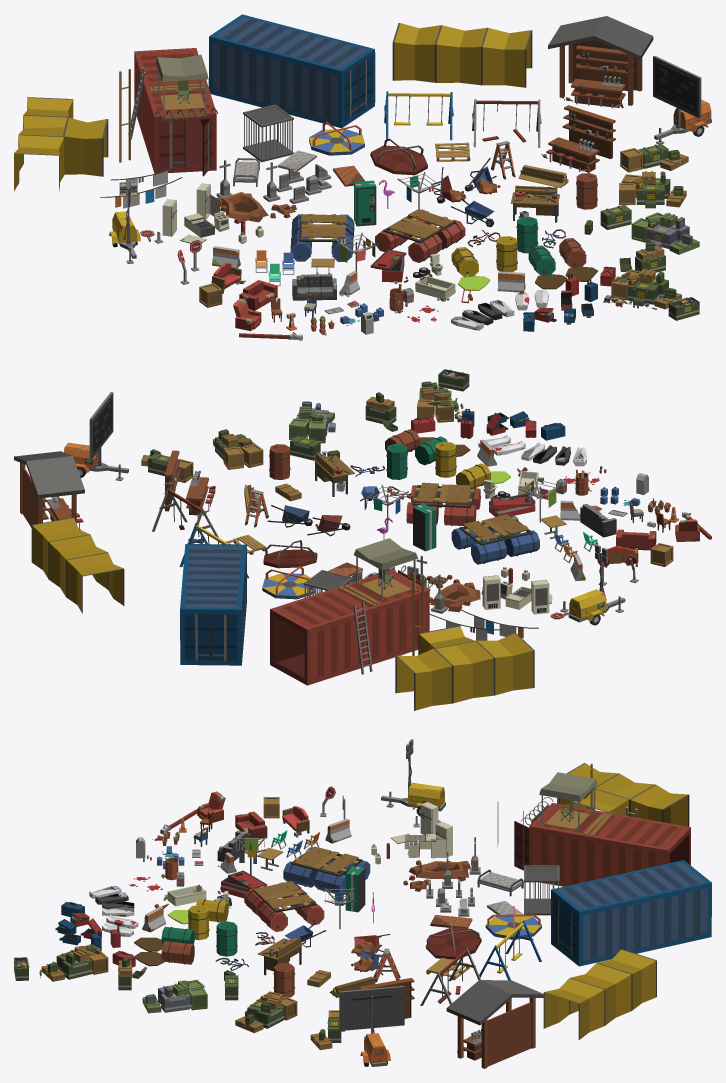
File: apoc_object.glb
3 renders of one model, top to bottom at view 1: azimuth 30°, elevation 25°; view 2: azimuth 150°, elevation 25°; view 3: azimuth 270°, elevation 25°, orthographic. The views are drawn at different scales.
Parts seen in each view (by area): view 1: Object_2; view 2: Object_2; view 3: Object_2.
Boxes of the visible parts, bbox=[...] form: Object_2: bbox=[14, 14, 711, 340]; Object_2: bbox=[14, 369, 711, 710]; Object_2: bbox=[14, 739, 711, 1068].
Size of the model in its own units: 7.44 by 1.2 by 8.
Materials: 1 (1 with a texture image).
